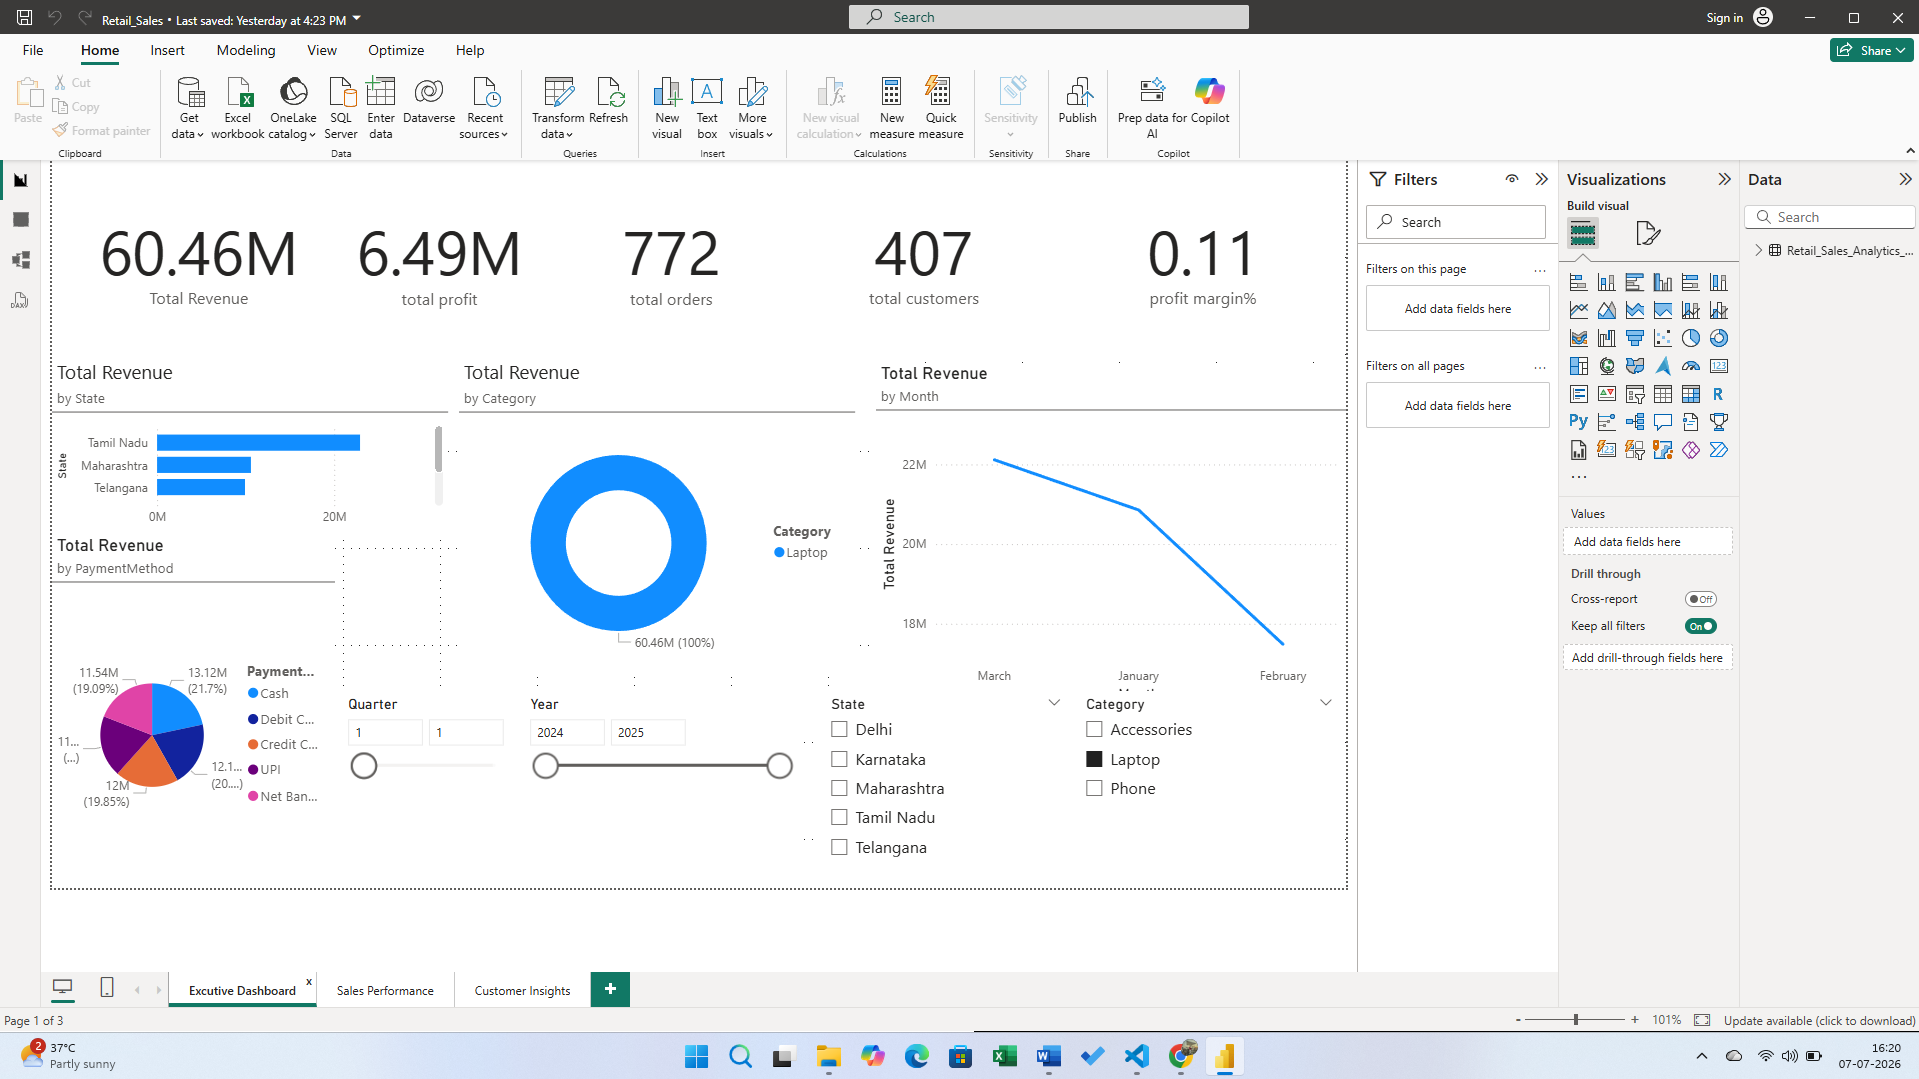

Layout of this report page (visuals, bound fields, positions):
{"tool":"powerbi","page":{"name":"Excutive Dashboard","canvas":[1280,720],"ordinal":0},"visuals":[{"type":"card","fields":{"Values":["Retail_Sales_Analytics_Enterprise_Dataset.Total Revenue"]},"box":[0,0,290.8,196.5],"z":0},{"type":"card","fields":{"Values":["Retail_Sales_Analytics_Enterprise_Dataset.total profit"]},"box":[274.3,1,218.8,195.5],"z":1000},{"type":"card","fields":{"Values":["Retail_Sales_Analytics_Enterprise_Dataset.total orders"]},"box":[493.1,1,240.2,195.5],"z":2000},{"type":"card","fields":{"Values":["Retail_Sales_Analytics_Enterprise_Dataset.total customers"]},"box":[727.5,0,271.4,196.5],"z":3000},{"type":"card","fields":{"Values":["Retail_Sales_Analytics_Enterprise_Dataset.profit margin%"]},"box":[998.9,0,281.1,196.5],"z":4000},{"type":"donutChart","fields":{"Category":["Retail_Sales_Analytics_Enterprise_Dataset.Category"],"Y":["Retail_Sales_Analytics_Enterprise_Dataset.total revenue"]},"box":[402.7,196.5,392,310.3],"z":5000},{"type":"clusteredBarChart","fields":{"Category":["Retail_Sales_Analytics_Enterprise_Dataset.State"],"Y":["Retail_Sales_Analytics_Enterprise_Dataset.total revenue"]},"box":[0,196.5,392,173.1],"z":6000},{"type":"lineChart","fields":{"Category":["Retail_Sales_Analytics_Enterprise_Dataset.Month"],"Y":["Retail_Sales_Analytics_Enterprise_Dataset.Total Revenue"]},"box":[815.1,201.3,464.9,339.5],"z":7000},{"type":"pieChart","fields":{"Category":["Retail_Sales_Analytics_Enterprise_Dataset.PaymentMethod"],"Y":["Retail_Sales_Analytics_Enterprise_Dataset.Total Revenue"]},"box":[0,371.6,280.1,348.2],"z":8000},{"type":"slicer","fields":{"Values":["Retail_Sales_Analytics_Enterprise_Dataset.Year"]},"box":[460.1,525.2,281.1,194.5],"z":9000},{"type":"slicer","fields":{"Values":["Retail_Sales_Analytics_Enterprise_Dataset.Quarter"]},"box":[280.1,525.2,179.9,194.5],"z":10000},{"type":"slicer","fields":{"Values":["Retail_Sales_Analytics_Enterprise_Dataset.State"]},"box":[757.7,525.2,252.9,194.5],"z":11000},{"type":"slicer","fields":{"Values":["Retail_Sales_Analytics_Enterprise_Dataset.Category"]},"box":[1010.6,525.2,269.4,194.5],"z":12000}]}

Visuals, with their boxes on the page's 1280x720 design canvas (x1, y1, x2, y2). These are canvas units, not pixel positions in the 1919x1079 screenshot, which may show the page scaled, cropped or inside an application window:
card - Retail_Sales_Analytics_Enterprise_Dataset.Total Revenue: box=[0, 0, 291, 196]
card - Retail_Sales_Analytics_Enterprise_Dataset.total profit: box=[274, 1, 493, 196]
card - Retail_Sales_Analytics_Enterprise_Dataset.total orders: box=[493, 1, 733, 196]
card - Retail_Sales_Analytics_Enterprise_Dataset.total customers: box=[728, 0, 999, 196]
card - Retail_Sales_Analytics_Enterprise_Dataset.profit margin%: box=[999, 0, 1280, 196]
donutChart - Retail_Sales_Analytics_Enterprise_Dataset.Category x Retail_Sales_Analytics_Enterprise_Dataset.total revenue: box=[403, 196, 795, 507]
clusteredBarChart - Retail_Sales_Analytics_Enterprise_Dataset.State x Retail_Sales_Analytics_Enterprise_Dataset.total revenue: box=[0, 196, 392, 370]
lineChart - Retail_Sales_Analytics_Enterprise_Dataset.Month x Retail_Sales_Analytics_Enterprise_Dataset.Total Revenue: box=[815, 201, 1280, 541]
pieChart - Retail_Sales_Analytics_Enterprise_Dataset.PaymentMethod x Retail_Sales_Analytics_Enterprise_Dataset.Total Revenue: box=[0, 372, 280, 720]
slicer - Retail_Sales_Analytics_Enterprise_Dataset.Year: box=[460, 525, 741, 720]
slicer - Retail_Sales_Analytics_Enterprise_Dataset.Quarter: box=[280, 525, 460, 720]
slicer - Retail_Sales_Analytics_Enterprise_Dataset.State: box=[758, 525, 1011, 720]
slicer - Retail_Sales_Analytics_Enterprise_Dataset.Category: box=[1011, 525, 1280, 720]
